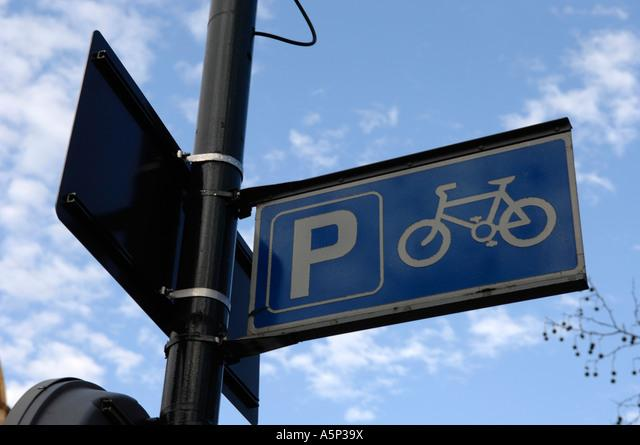Parking Lot Cycle: (254, 132, 604, 336)
